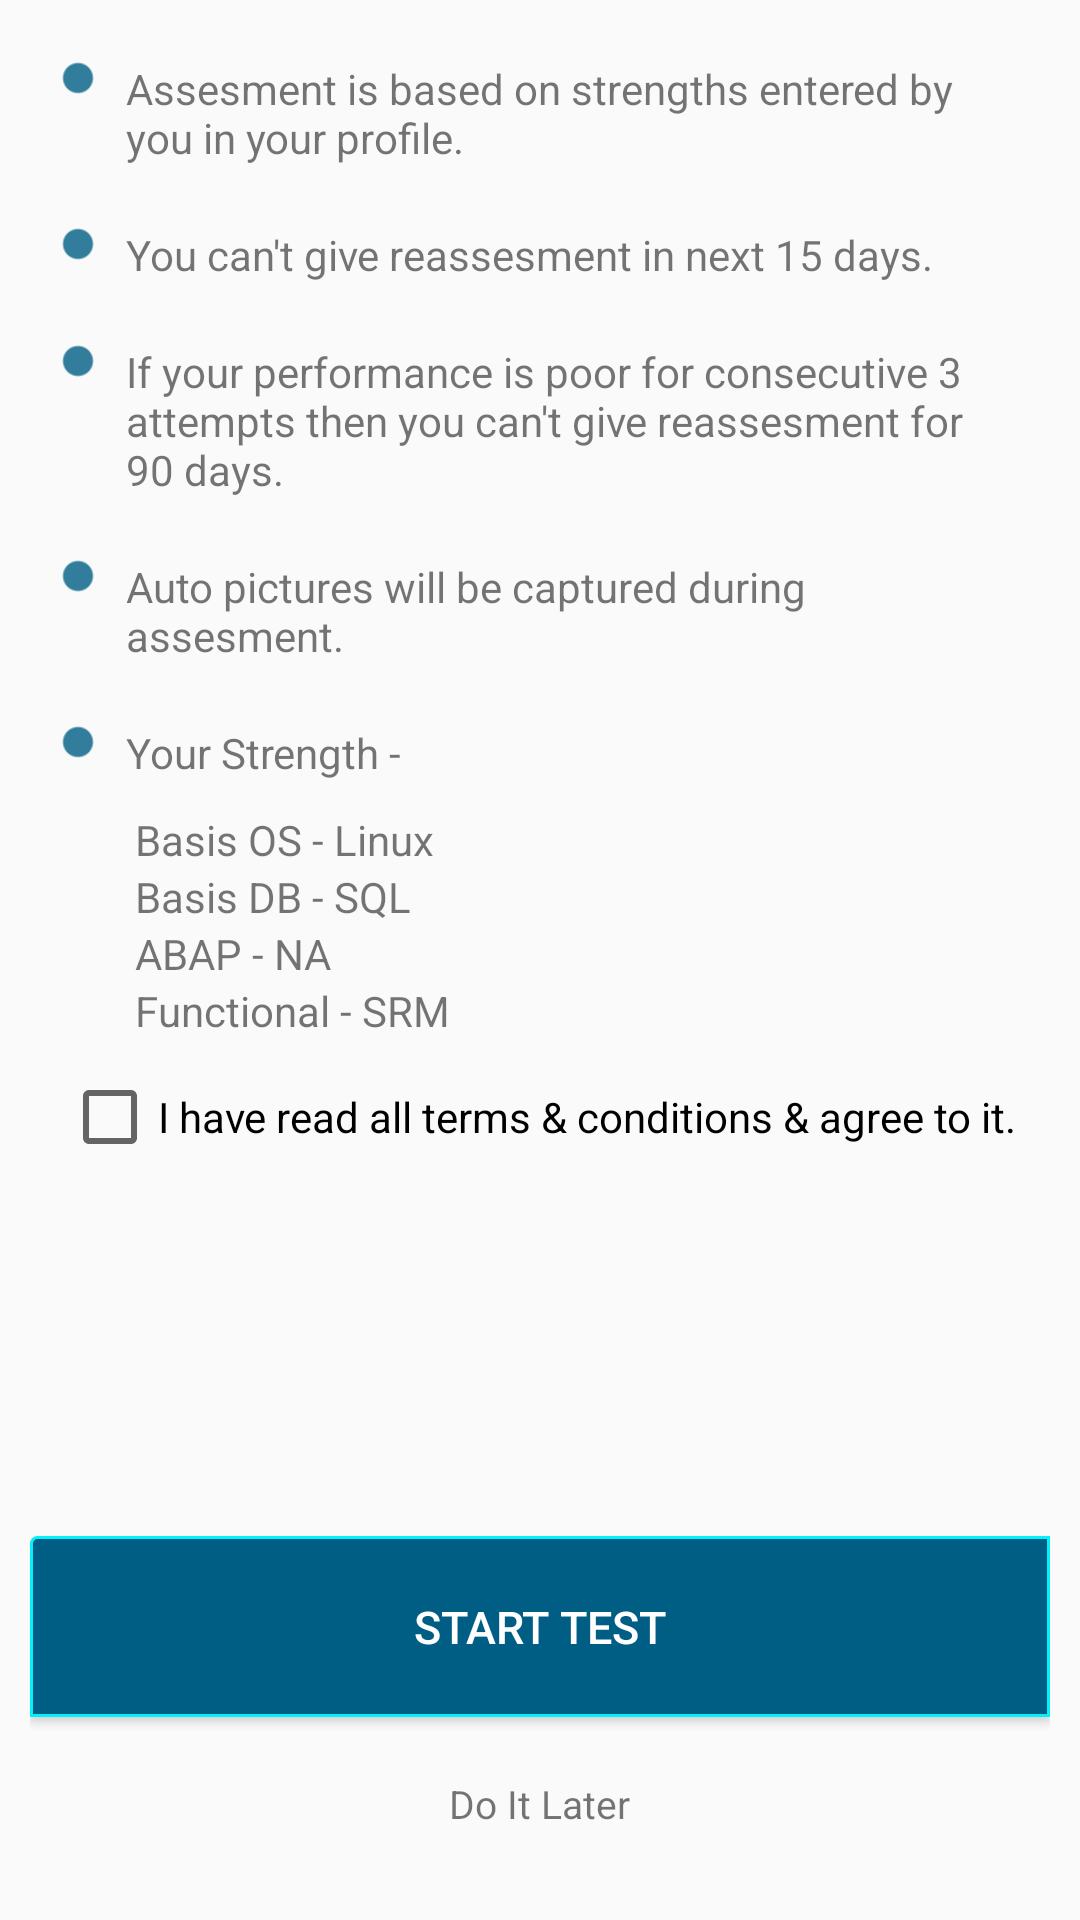

Screen size 1080w x 1920h. Icon name, then its center in pixels as (x=x, y=y):
bullet: (x=78, y=78), (x=78, y=244), (x=78, y=361), (x=78, y=576), (x=78, y=742)
